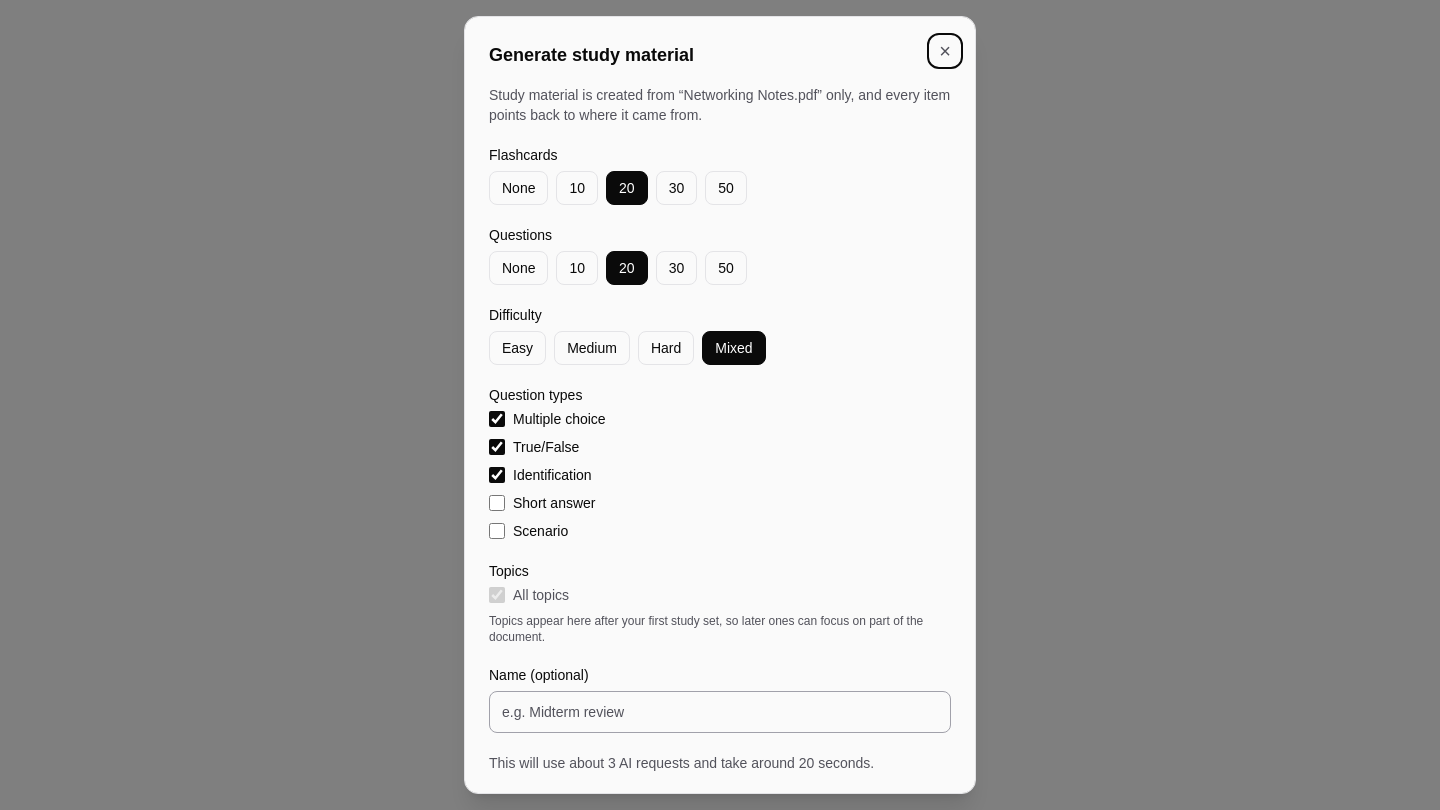
GenerateModal › setting questions to None disables the question-type checkboxes without blocking submit
Click the button "None" below "Questions" at (519, 268), box [489,251,548,285]
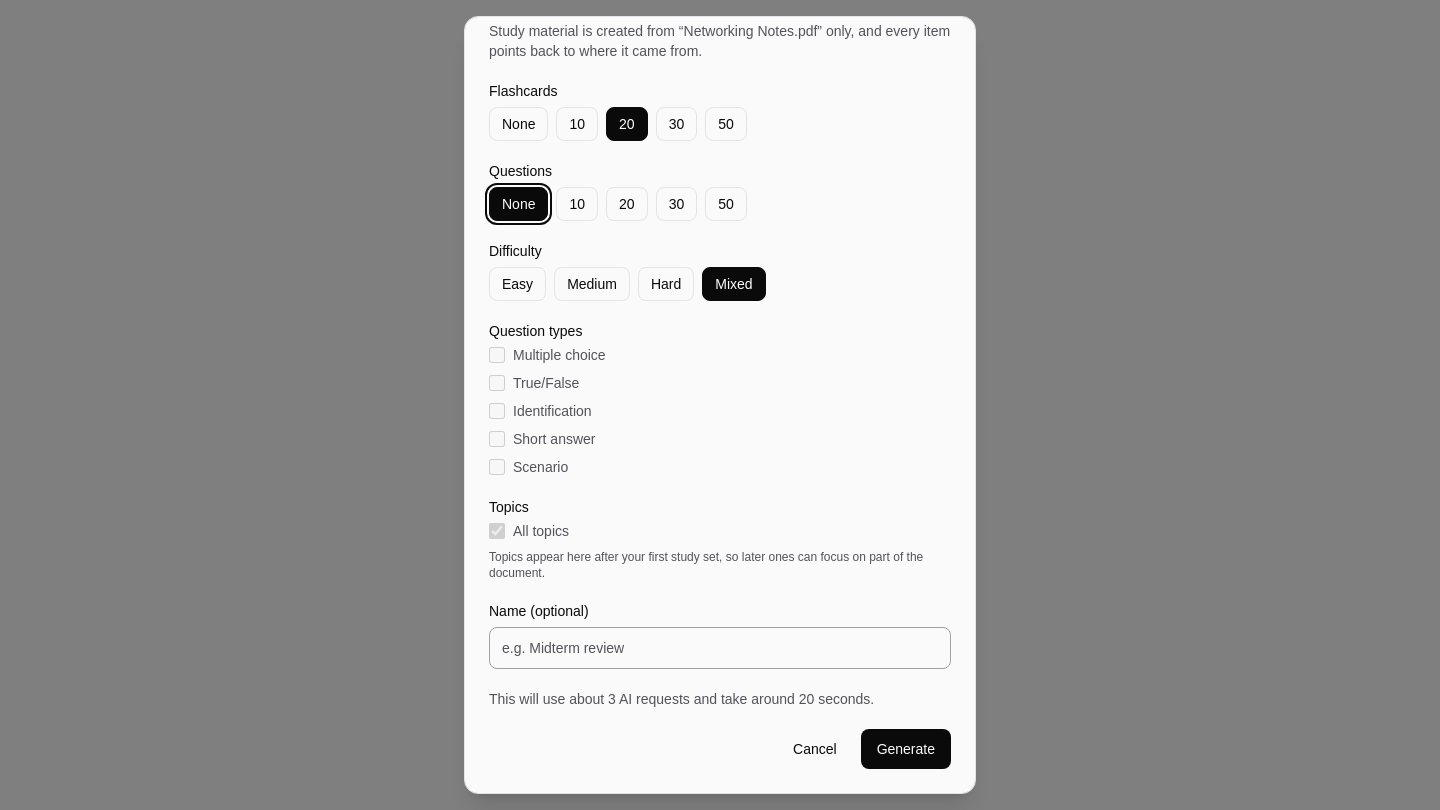
Expected: the button "Generate" is enabled, [861,729,951,769]
Expected: the checkbox labelled "Multiple choice" is disabled, [489,347,505,363]
